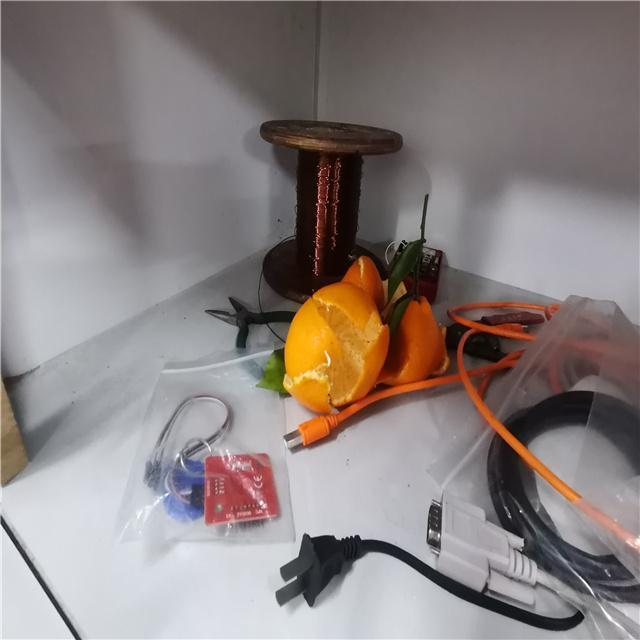orange peel: (283, 279, 392, 417)
